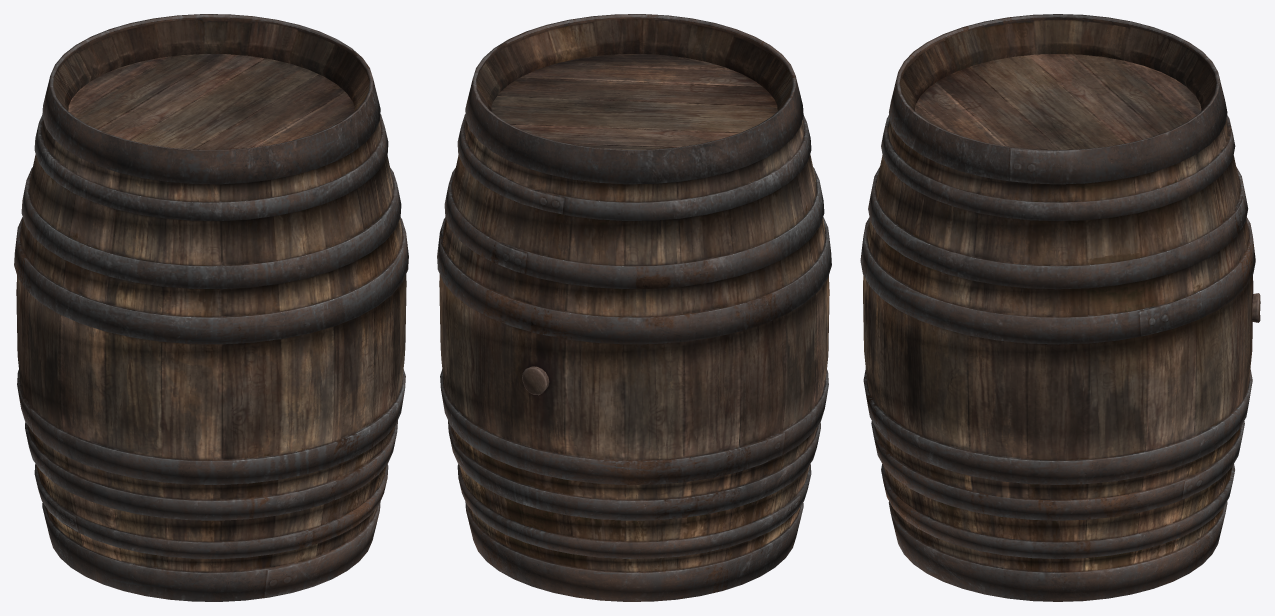
The model's file is SM_Barrel.fbx.
3 views of the same model, side by side, from view 1: azimuth 30°, elevation 25°; view 2: azimuth 150°, elevation 25°; view 3: azimuth 270°, elevation 25° (orthographic).
Parts seen in each view (by area): view 1: SM_Barrel; view 2: SM_Barrel; view 3: SM_Barrel.
Part boxes in pixels (x1=…): SM_Barrel: x1=14, y1=14, x2=408, y2=601; SM_Barrel: x1=437, y1=14, x2=831, y2=601; SM_Barrel: x1=860, y1=14, x2=1260, y2=601.
Bounding box in the file's own units: 79.35 × 80.29 × 99.9.
